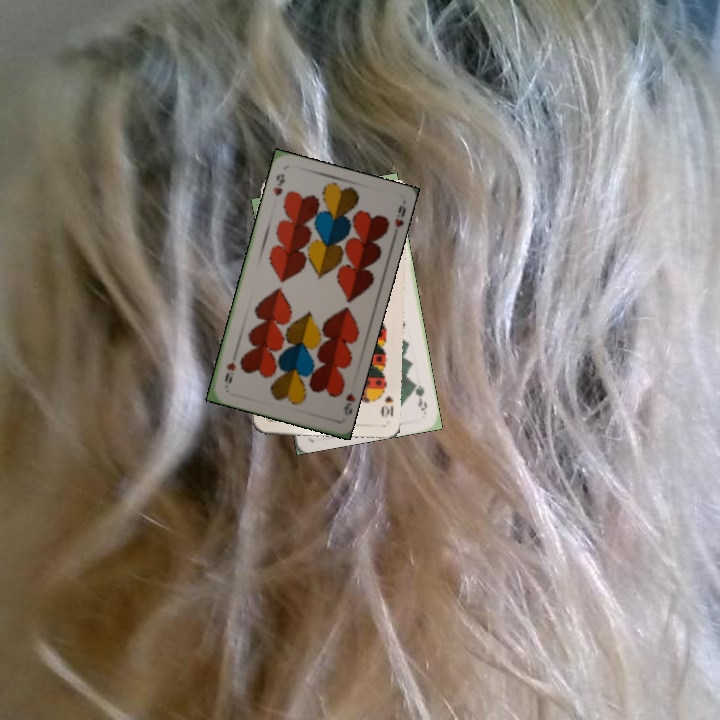G9: (410, 378, 430, 416)
H9: (269, 170, 288, 198), (339, 389, 356, 418)
S10: (377, 382, 396, 420)
